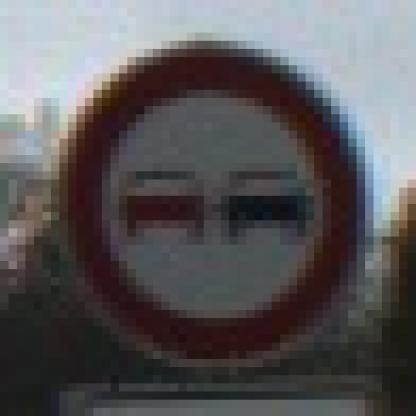No Overtaking: (44, 42, 375, 376)
